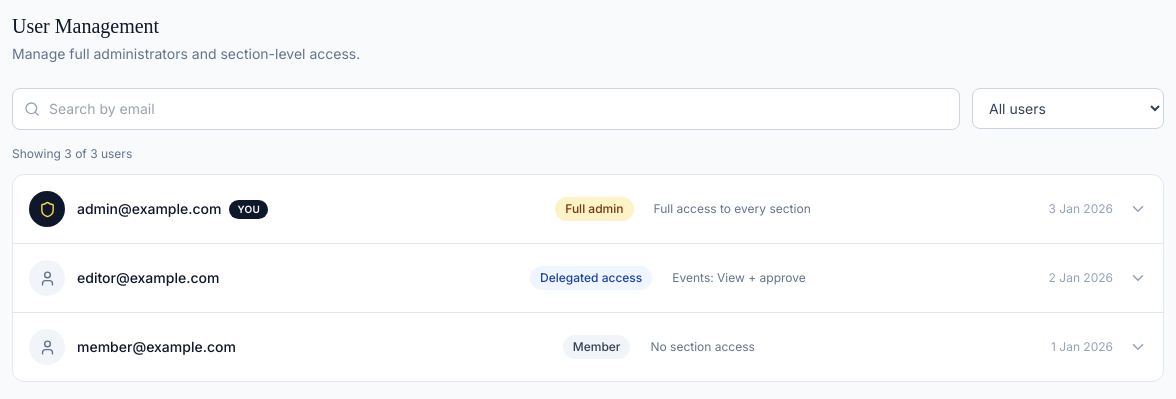
Test: AdminUsersPage › searches and filters users by their saved access role
The image size is (1176, 399).
Expected: the text "editor@example.com" is shown, [77,268,219,288]
Select "Delegated access" in the dropdown named "Filter users" at point(1068, 108), box [972,88,1164,129]
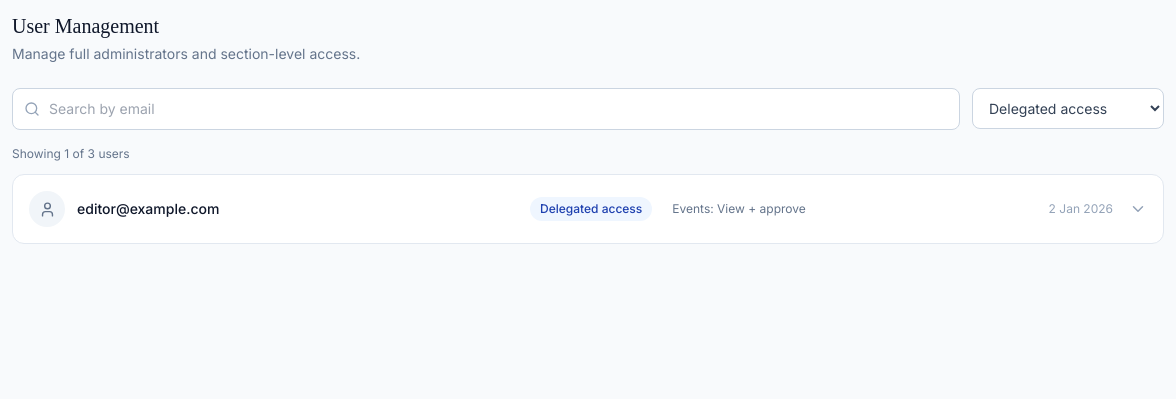
Result: the button "admin@example.com" is gone
Result: the button "member@example.com" is gone
Result: the text "Showing 1 of 3 users" is shown at [12,146,130,161]
Type "someone-else" into the search field with placeholder "Search by email" at point(486, 109), box [12,88,960,130]
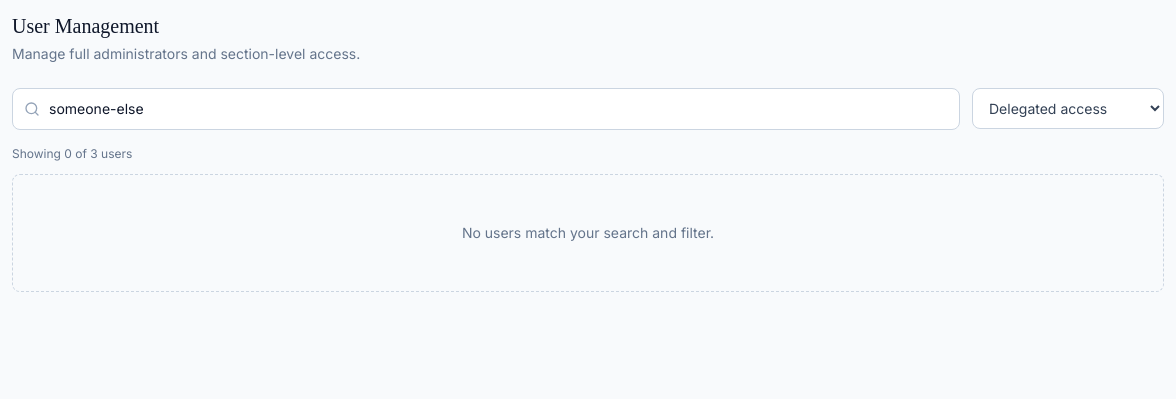
Result: the text "No users match your search and filter." is shown at [12,174,1164,292]
